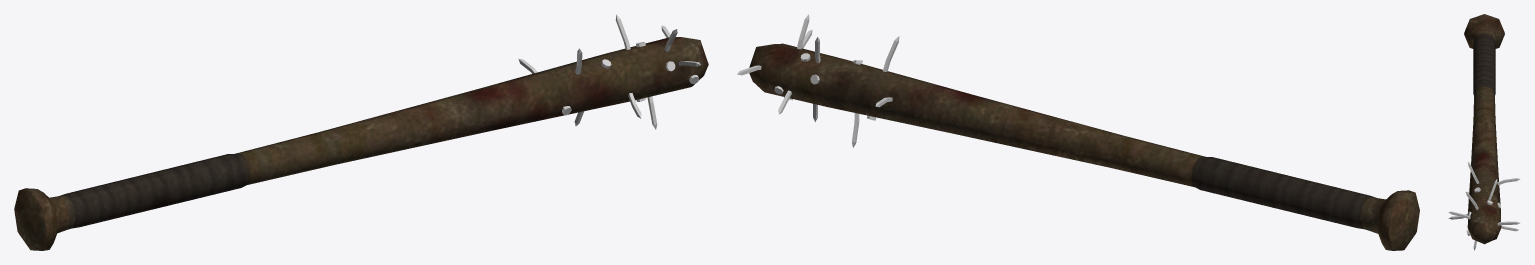
Rendered from baseball_bat_mx_2.obj.
The picture shows the model from 3 angles, left to right: view 1: azimuth 30°, elevation 25°; view 2: azimuth 150°, elevation 25°; view 3: azimuth 270°, elevation 25°; orthographic projection. The views are drawn at different scales.
Parts seen in each view (by area): view 1: baseball_bat_mx_2; view 2: baseball_bat_mx_2; view 3: baseball_bat_mx_2.
Boxes of the visible parts, x1,y1,x2,y2 form: baseball_bat_mx_2: (14,14,708,250); baseball_bat_mx_2: (737,14,1419,250); baseball_bat_mx_2: (1448,14,1519,250).
Bounding box in the file's own units: 1.24 × 0.1879 × 0.1866.
